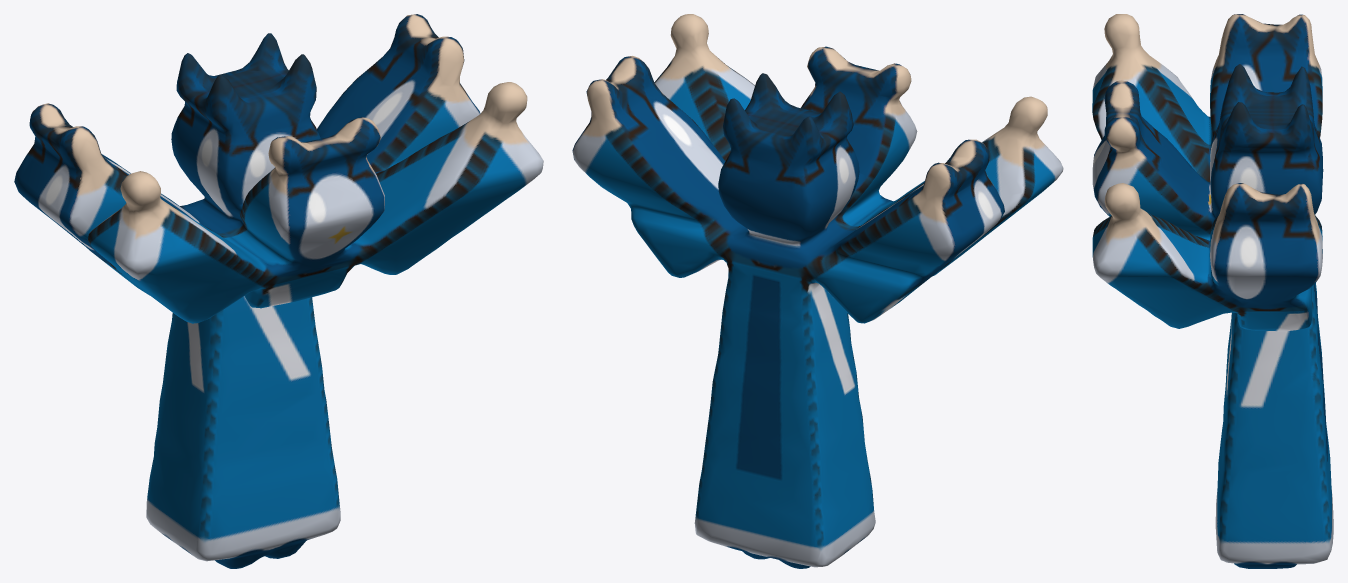
The model's file is MirrorChorister.glb.
The picture shows the model from 3 angles, left to right: view 1: azimuth 30°, elevation 25°; view 2: azimuth 150°, elevation 25°; view 3: azimuth 270°, elevation 25°; orthographic projection. The views are drawn at different scales.
Parts seen in each view (by area): view 1: MirrorChorister; view 2: MirrorChorister; view 3: MirrorChorister.
Part boxes in pixels (box(x1,y1,x2,y2)): MirrorChorister: box(14, 14, 543, 568); MirrorChorister: box(572, 14, 1063, 568); MirrorChorister: box(1092, 14, 1333, 568).
Size of the model in its own units: 3.52 by 4 by 1.85.
Materials: 1 (1 with a texture image).
